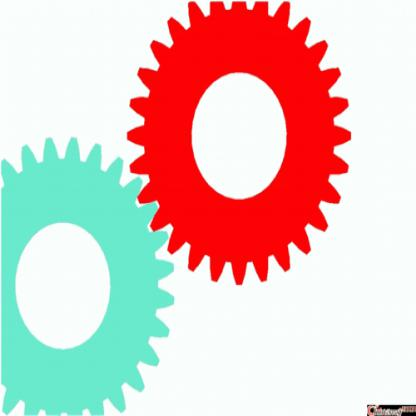FOD: (124, 0, 354, 289), (0, 130, 177, 415)
